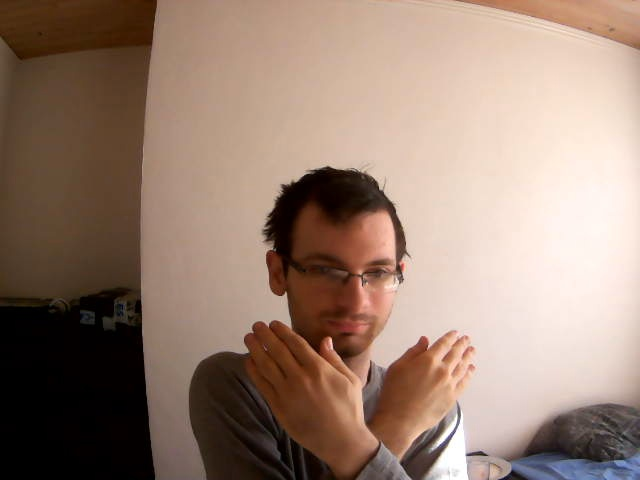butterfly: (236, 316, 478, 447)
